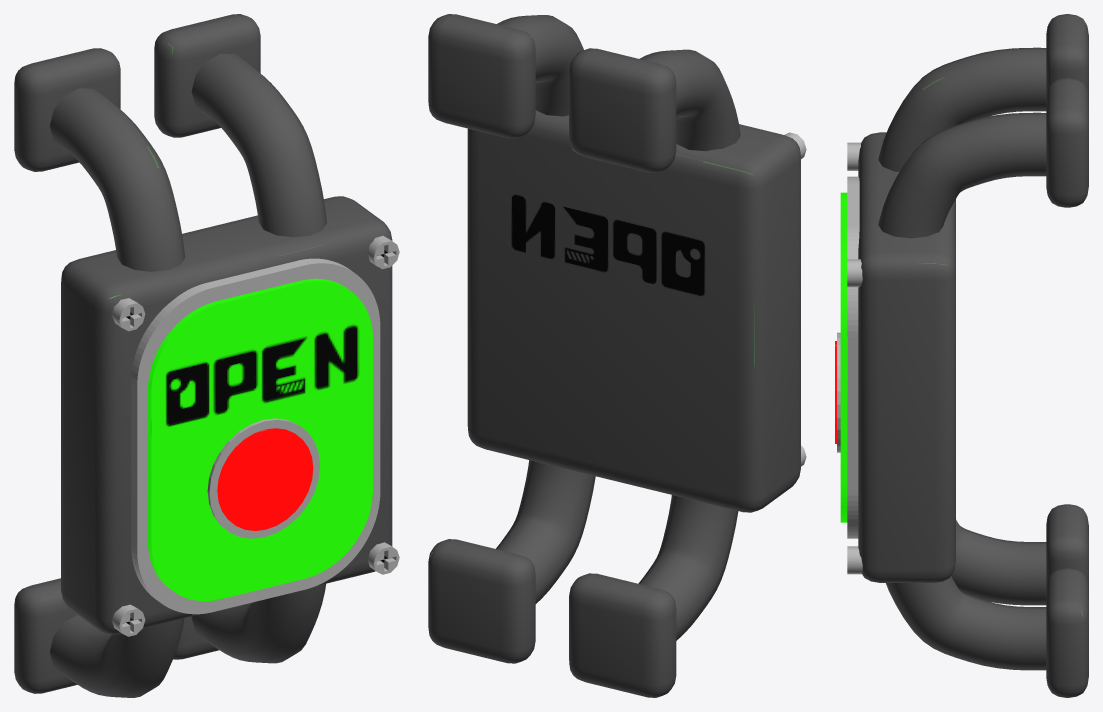
The model's file is Door Panel.fbx.
3 views of the same model, side by side, from view 1: azimuth 30°, elevation 25°; view 2: azimuth 150°, elevation 25°; view 3: azimuth 270°, elevation 25° (orthographic). The views are drawn at different scales.
Parts seen in each view (by area): view 1: Base003, Base001, Base002, Pipe001, Pipe002, Pipe004, Button, Back_Pipe001, Back_Pipe002, Pipe003, Back_Pipe004, Back_of_Button (+5 smaller); view 2: Base001, Back_Pipe004, Back_Pipe001, Back_Pipe002, Back_Pipe003, Pipe004, Pipe003, Pipe001, Pipe002; view 3: Base001, Pipe002, Pipe001, Pipe003, Pipe004, Back_Pipe003, Back_Pipe001, Base002, Back_Pipe004, Back_Pipe002, Base003, Back_of_Button (+2 smaller).
Boxes of the visible parts, x1,y1,x2,y2 form: Base003: [148, 278, 372, 601]; Base001: [61, 196, 392, 634]; Base002: [131, 258, 380, 614]; Pipe001: [49, 88, 185, 271]; Pipe002: [191, 53, 326, 237]; Pipe004: [49, 615, 184, 697]; Button: [217, 428, 313, 530]; Back_Pipe001: [154, 14, 260, 137]; Back_Pipe002: [14, 48, 120, 171]; Pipe003: [191, 584, 325, 663]; Back_Pipe004: [14, 578, 77, 693]; Back_of_Button: [207, 418, 319, 538]; Base001: [467, 110, 800, 512]; Back_Pipe004: [569, 573, 676, 697]; Back_Pipe001: [428, 14, 535, 138]; Back_Pipe002: [569, 48, 676, 172]; Back_Pipe003: [428, 539, 535, 663]; Pipe004: [638, 495, 738, 640]; Pipe003: [496, 460, 595, 603]; Pipe001: [639, 49, 740, 151]; Pipe002: [497, 15, 583, 116]; Base001: [858, 132, 955, 582]; Pipe002: [878, 112, 1046, 238]; Pipe001: [878, 47, 1046, 171]; Pipe003: [886, 576, 1046, 670]; Pipe004: [951, 520, 1046, 605]; Back_Pipe003: [1046, 568, 1088, 697]; Back_Pipe001: [1046, 78, 1088, 207]; Base002: [847, 176, 859, 538]; Back_Pipe004: [1046, 504, 1088, 588]; Back_Pipe002: [1046, 14, 1088, 98]; Base003: [840, 192, 847, 522]; Back_of_Button: [837, 332, 840, 452].
Bounding box in the file's own units: 15 × 30.4 × 11.91.
Materials: 1 (1 with a texture image).
